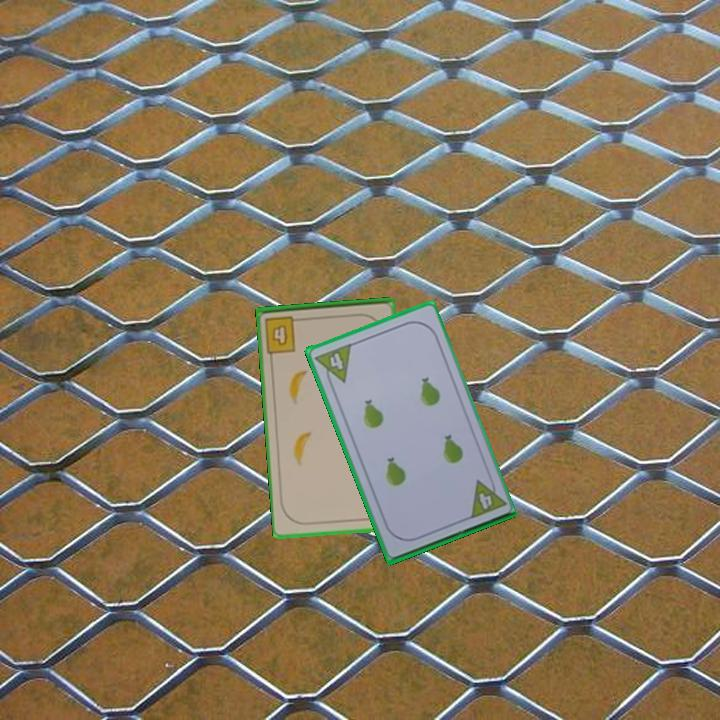4b: (261, 312, 306, 356)
4p: (311, 340, 354, 390), (465, 473, 508, 522)
